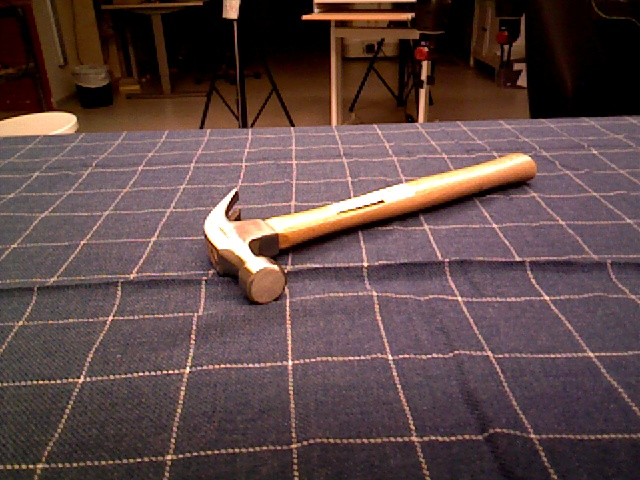hammer1: (200, 153, 538, 306)
